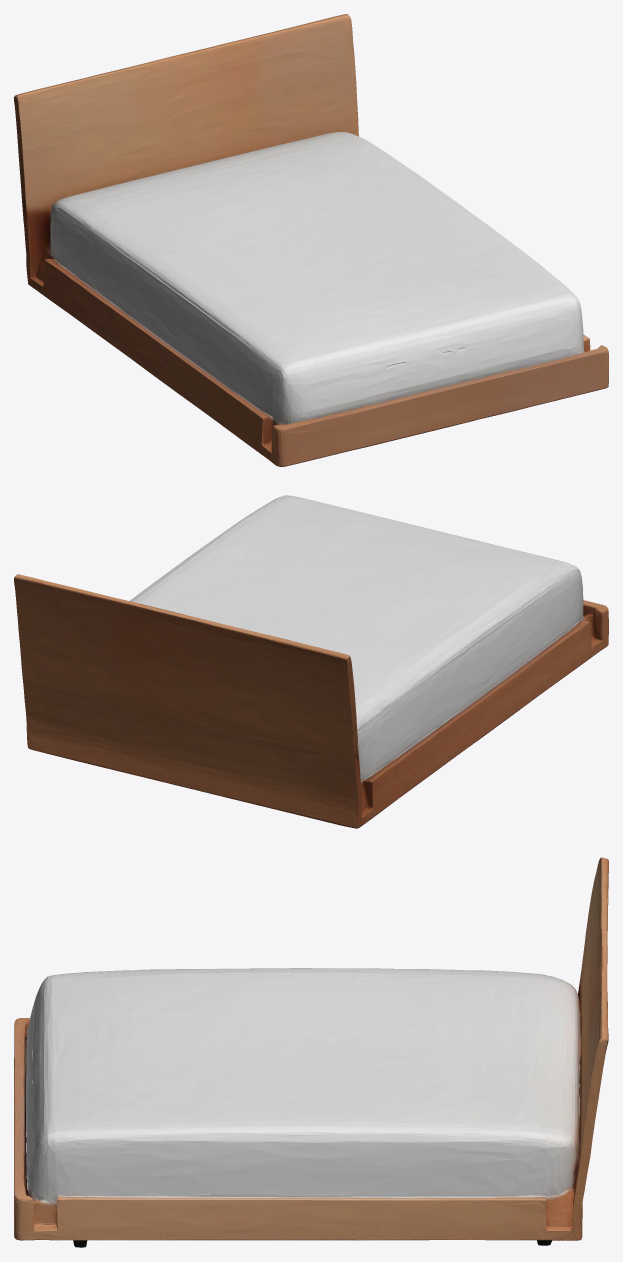
Rendered from 42784717-6522-4c0e-a82f-b94d1aecc1d5.glb.
3 views of the same model, one above another, from view 1: azimuth 30°, elevation 25°; view 2: azimuth 150°, elevation 25°; view 3: azimuth 270°, elevation 25° (orthographic). The views are drawn at different scales.
Visible parts, largest first — view 1: world; view 2: world; view 3: world.
Part boxes in pixels (x1,y1,x2,y2): world: (14,14,608,466); world: (14,495,608,828); world: (14,857,608,1247).
Bounding box in the file's own units: 0.7248 × 0.4074 × 0.9998.
1 material, 1 textured.
